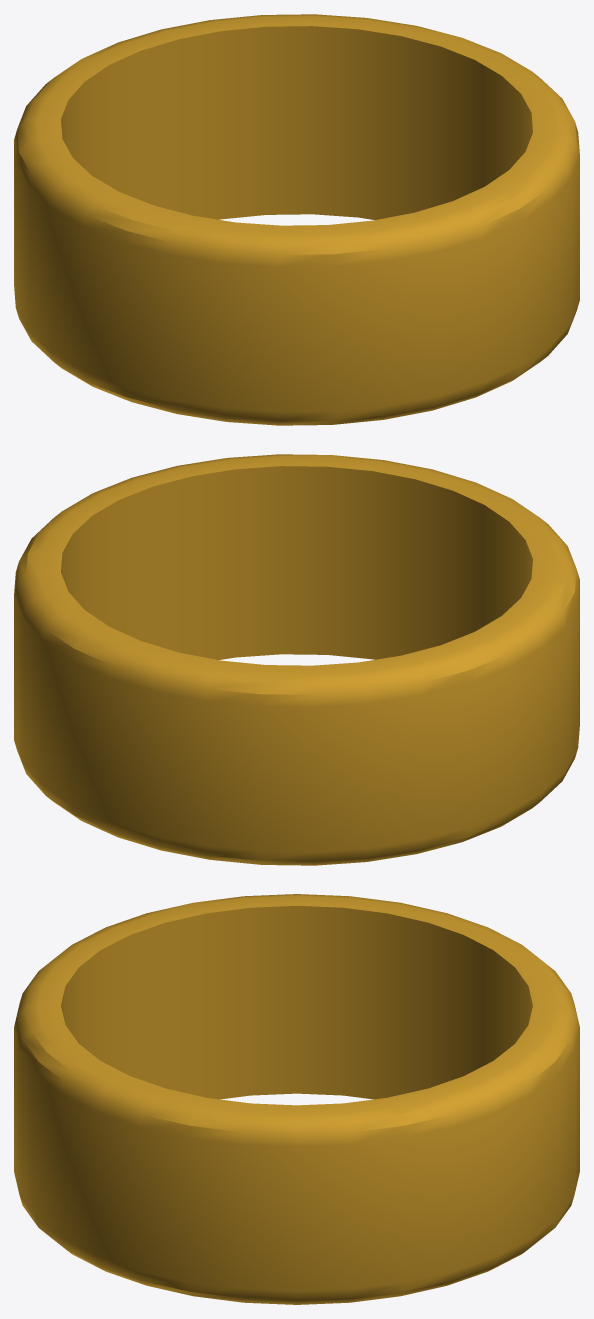
The model's file is oil_bottle_nap_bottom.fbx.
3 views of the same model, one above another, from view 1: azimuth 30°, elevation 25°; view 2: azimuth 150°, elevation 25°; view 3: azimuth 270°, elevation 25° (orthographic).
Parts seen in each view (by area): view 1: oil_bottle_nap_bottom; view 2: oil_bottle_nap_bottom; view 3: oil_bottle_nap_bottom.
Part boxes in pixels (x1,y1,x2,y2): oil_bottle_nap_bottom: [14, 14, 579, 425]; oil_bottle_nap_bottom: [14, 454, 579, 865]; oil_bottle_nap_bottom: [14, 894, 579, 1304].
Size of the model in its own units: 36.6 by 13.4 by 36.6.
1 material, 1 textured.
